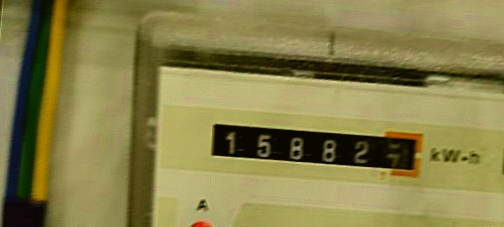1: (223, 127, 240, 153)
2: (353, 136, 370, 161)
5: (255, 128, 274, 156)
7: (386, 147, 401, 167)
8: (288, 132, 306, 160), (321, 134, 338, 160)
screen: (196, 104, 434, 186)
